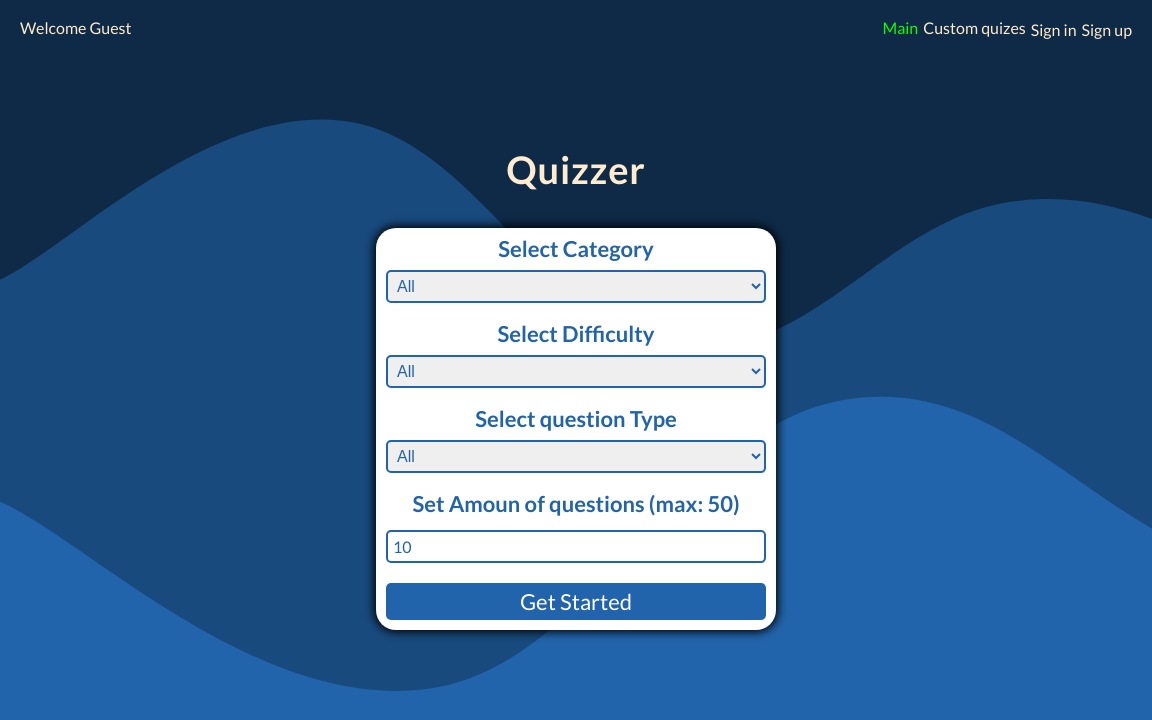
Test: router-test › should open right pages(Custom quizes)
Click the link with test id "customquizes-link" at [975, 28], box [923,18,1026,37]
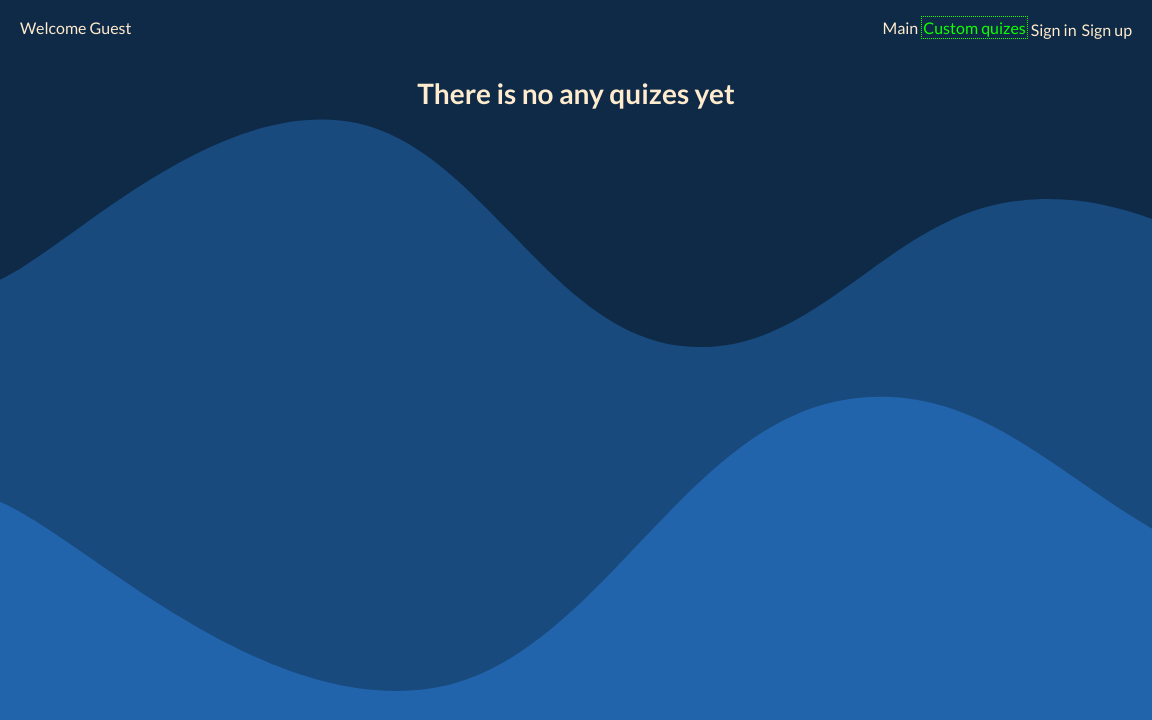
Expected: the element with test id "customquizes-page" is shown
